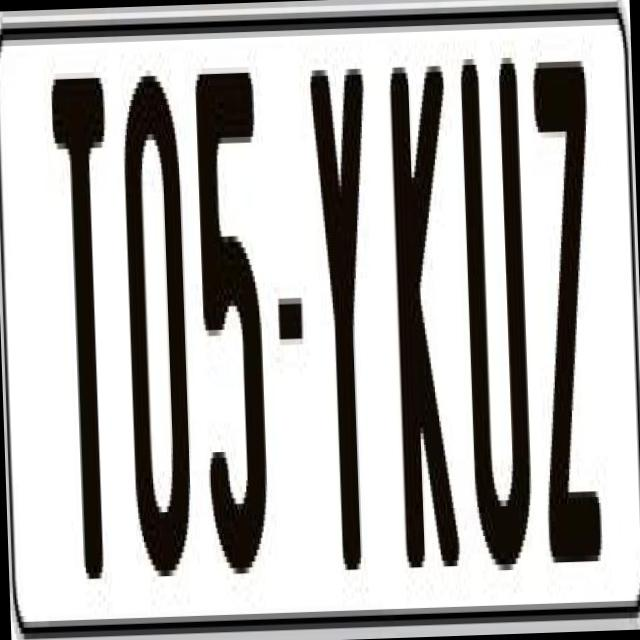0: (119, 57, 192, 571)
5: (194, 65, 276, 598)
K: (388, 59, 466, 562)
T: (51, 71, 128, 597)
U: (458, 45, 542, 588)
Y: (310, 68, 380, 582)
Z: (530, 42, 607, 568)
